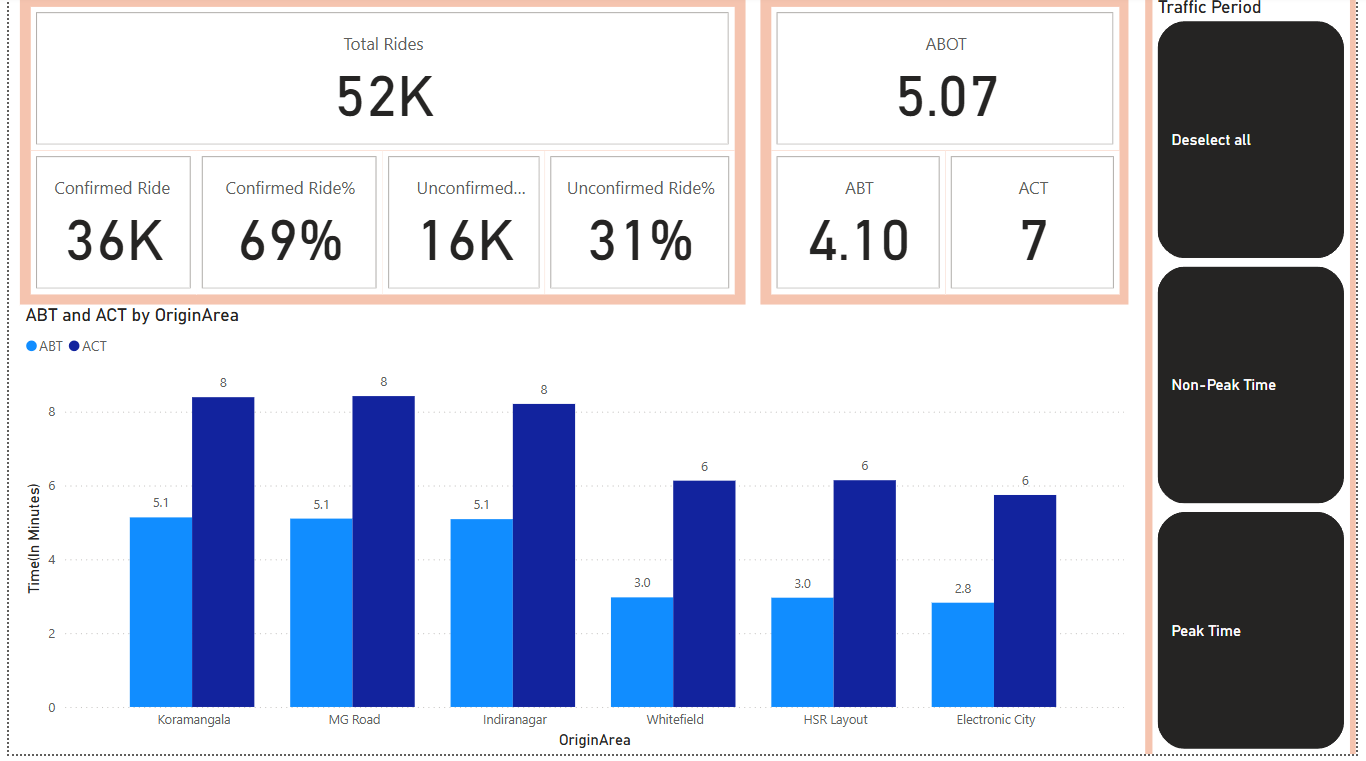

This screenshot's page, from the dashboard's own definition file:
{"tool":"powerbi","page":{"name":"Overall Dashboard","canvas":[1280,720],"ordinal":0},"visuals":[{"type":"textbox","box":[10.4,0,689.2,293.9],"z":0},{"type":"textbox","box":[1079.3,0,200.3,720.4],"z":1000},{"type":"textbox","box":[713.9,0,349.8,293.9],"z":2000},{"type":"cardVisual","fields":{"Data":["A_Measures.Total Rides"]},"box":[20.8,10.4,668.4,136.5],"z":3000},{"type":"cardVisual","fields":{"Data":["A_Measures.Confirmed Ride "]},"box":[20.7,147.1,157.5,136.8],"z":4000},{"type":"cardVisual","fields":{"Data":["A_Measures.Confirmed Ride%"]},"box":[178.1,147.1,177,136.8],"z":5000},{"type":"cardVisual","fields":{"Data":["A_Measures.Unconfirmed Ride"]},"box":[355.1,147.1,154,136.8],"z":6000},{"type":"cardVisual","fields":{"Data":["A_Measures.Unconfirmed Ride%"]},"box":[509.1,147.1,180.4,136.8],"z":7000},{"type":"cardVisual","fields":{"Data":["A_Measures.ABT"]},"box":[724.3,146.9,165.2,136.5],"z":8000},{"type":"cardVisual","fields":{"Data":["A_Measures.ABOT"]},"box":[724.3,10.4,330.3,136.5],"z":9000},{"type":"cardVisual","fields":{"Data":["A_Measures.ACT"]},"box":[889.5,146.9,165.2,136.5],"z":10000},{"type":"advancedSlicerVisual","fields":{"Values":["RidersTable.Traffic Period"]},"box":[1085.9,0,187.3,720.4],"z":11000},{"type":"clusteredColumnChart","fields":{"Category":["RidersTable.OriginArea"],"Y":["A_Measures.ABT","A_Measures.ACT"]},"box":[10.4,293.9,1053.3,426.5],"z":12000}]}

Visuals, with their boxes in screenshot pixels (x1, y1, x2, y2), scaled from the page's 1280x720 canvas onto the 1366x761 screenshot:
textbox: [11, 0, 747, 311]
textbox: [1152, 0, 1365, 760]
textbox: [762, 0, 1135, 311]
cardVisual - A_Measures.Total Rides: [22, 11, 736, 155]
cardVisual - A_Measures.Confirmed Ride : [22, 155, 190, 300]
cardVisual - A_Measures.Confirmed Ride%: [190, 155, 379, 300]
cardVisual - A_Measures.Unconfirmed Ride: [379, 155, 543, 300]
cardVisual - A_Measures.Unconfirmed Ride%: [543, 155, 736, 300]
cardVisual - A_Measures.ABT: [773, 155, 949, 300]
cardVisual - A_Measures.ABOT: [773, 11, 1125, 155]
cardVisual - A_Measures.ACT: [949, 155, 1126, 300]
advancedSlicerVisual - RidersTable.Traffic Period: [1159, 0, 1359, 760]
clusteredColumnChart - RidersTable.OriginArea x A_Measures.ABT: [11, 311, 1135, 760]
